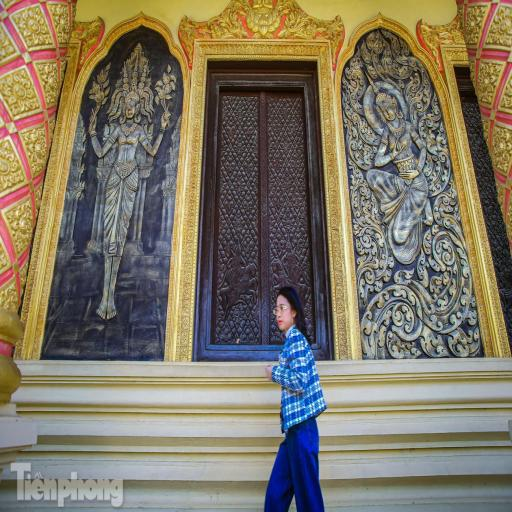hoa: (11, 1, 58, 57), (0, 67, 42, 116), (4, 190, 30, 261), (487, 116, 512, 179), (22, 122, 51, 172), (477, 52, 501, 110), (3, 141, 26, 194), (489, 5, 512, 52), (41, 55, 60, 108), (464, 6, 486, 44), (2, 271, 18, 310), (501, 68, 512, 118)
lua: (362, 228, 468, 358), (281, 1, 316, 40), (211, 0, 246, 37)
than: (89, 77, 169, 324), (365, 68, 434, 266), (245, 0, 281, 39)
